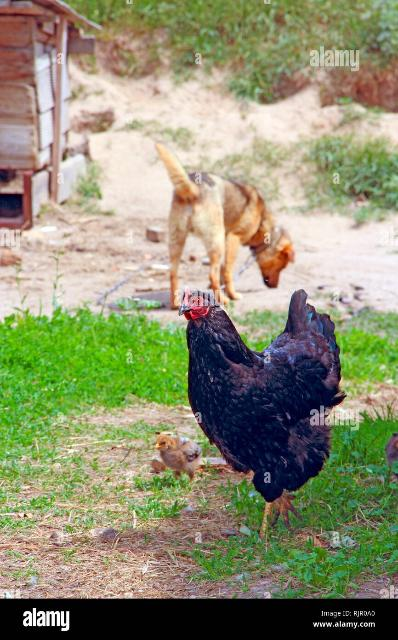Chicken: (180, 290, 343, 536)
